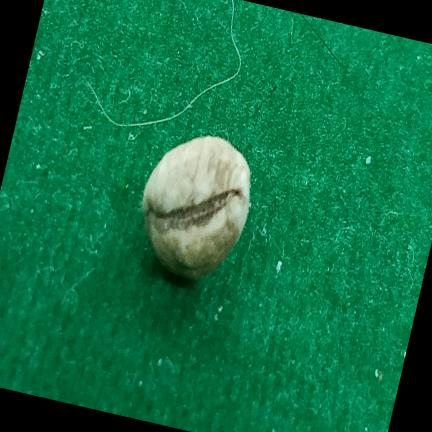cut: (143, 136, 250, 279)
